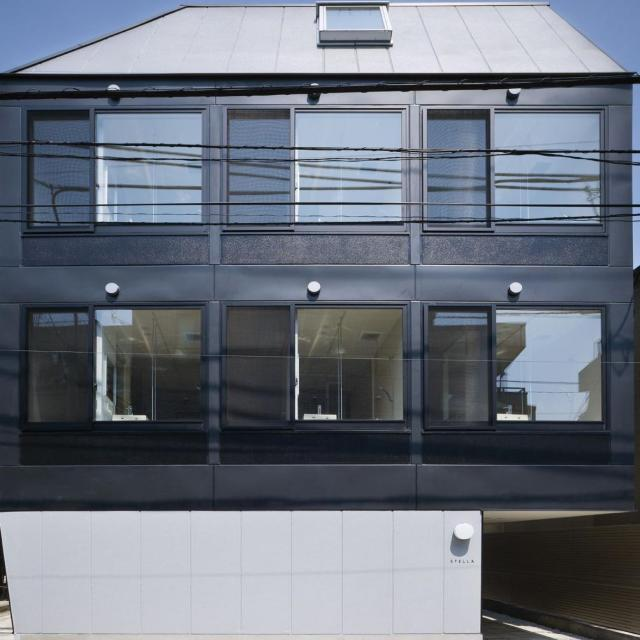window: (231, 106, 414, 222), (234, 302, 415, 417), (428, 305, 608, 419), (427, 112, 606, 225), (32, 310, 209, 418), (34, 111, 210, 218), (324, 6, 384, 30)
